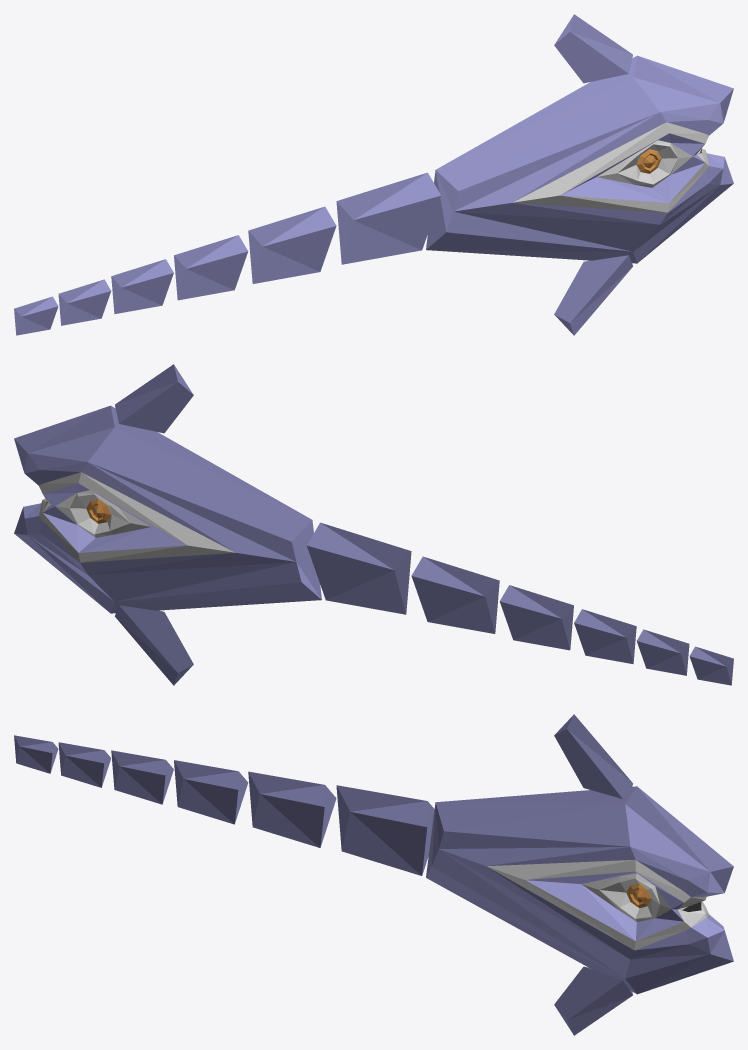
File: FISH_squaretail.fbx
The picture shows the model from 3 angles, top to bottom: view 1: azimuth 30°, elevation 25°; view 2: azimuth 150°, elevation 25°; view 3: azimuth 330°, elevation 25°; orthographic projection.
Parts seen in each view (by area): view 1: Cube.012, Cube.002, Cube.003, Cube.004, Cube.001, Cube.000, Cube.005, Cube.006, Cube.007; view 2: Cube.012, Cube.002, Cube.003, Cube.004, Cube.001, Cube.000, Cube.005, Cube.006, Cube.007; view 3: Cube.012, Cube.002, Cube.003, Cube.004, Cube.001, Cube.000, Cube.005, Cube.006, Cube.007.
Boxes of the visible parts, box(x1,y1,x2,y2) form: Cube.012: box(426, 55, 733, 263); Cube.002: box(336, 172, 441, 264); Cube.003: box(248, 206, 336, 283); Cube.004: box(174, 235, 248, 300); Cube.001: box(554, 14, 632, 83); Cube.000: box(554, 255, 632, 335); Cube.005: box(111, 259, 173, 314); Cube.006: box(58, 279, 111, 325); Cube.007: box(14, 296, 58, 335); Cube.012: box(14, 405, 321, 613); Cube.002: box(306, 522, 411, 614); Cube.003: box(411, 556, 499, 633); Cube.004: box(499, 585, 573, 650); Cube.001: box(115, 364, 193, 433); Cube.000: box(115, 605, 193, 685); Cube.005: box(574, 609, 636, 664); Cube.006: box(636, 629, 689, 675); Cube.007: box(689, 646, 733, 685); Cube.012: box(426, 786, 733, 994); Cube.002: box(336, 785, 434, 875); Cube.003: box(248, 771, 336, 847); Cube.004: box(174, 760, 248, 824); Cube.001: box(554, 714, 632, 798); Cube.000: box(554, 966, 632, 1035); Cube.005: box(111, 750, 173, 804); Cube.006: box(58, 742, 111, 787); Cube.007: box(14, 735, 58, 773).
Bounding box in the file's own units: 980 × 418 × 82.66.
